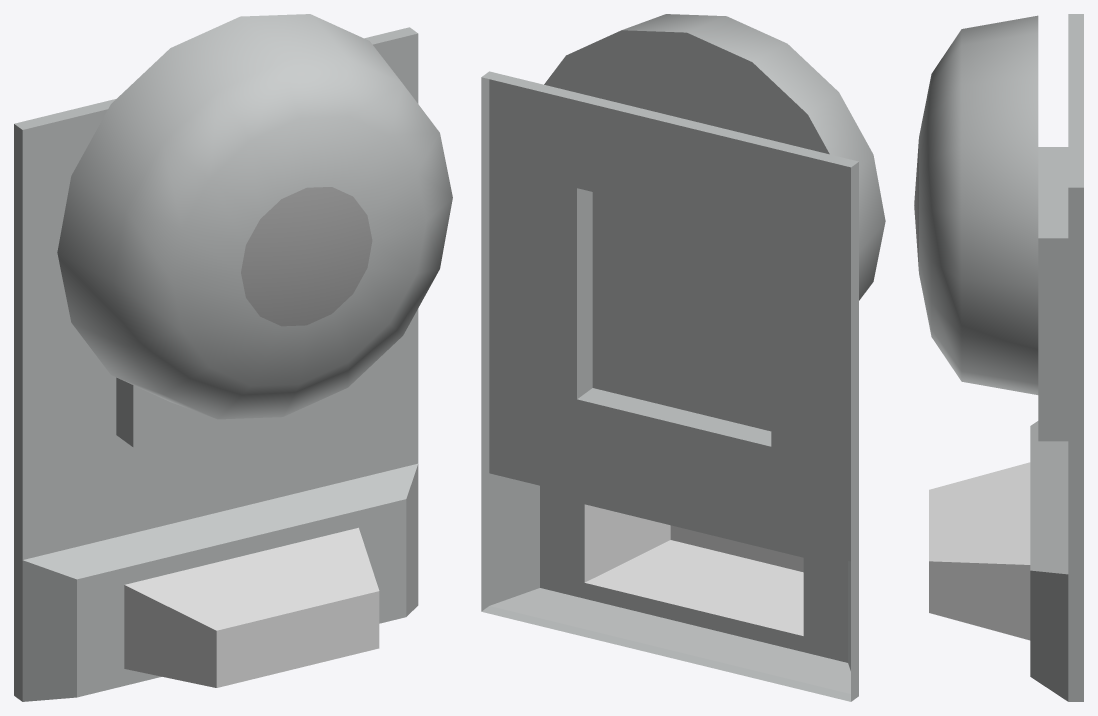
Rendered from fire_alarm.fbx.
The picture shows the model from 3 angles, left to right: view 1: azimuth 30°, elevation 25°; view 2: azimuth 150°, elevation 25°; view 3: azimuth 270°, elevation 25°; orthographic projection. The views are drawn at different scales.
Parts seen in each view (by area): view 1: fire_alarm, bell; view 2: fire_alarm, bell; view 3: fire_alarm, bell.
Boxes of the visible parts, x1,y1,x2,y2 form: fire_alarm: (14,27,418,701); bell: (57,14,452,419); fire_alarm: (481,71,858,701); bell: (544,14,885,387); fire_alarm: (929,14,1083,701); bell: (914,15,1038,394).
Size of the model in its own units: 48.41 by 75.84 by 19.99.
3 materials, 1 textured.
